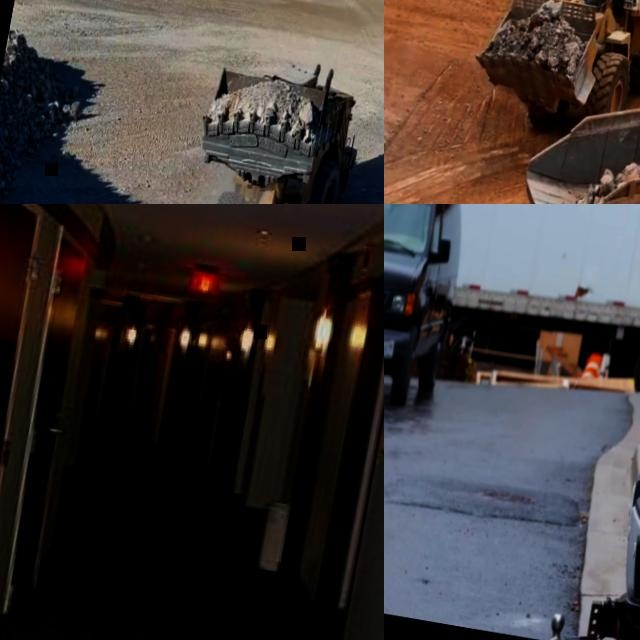Safety Cone: (581, 352, 605, 383)
machinery: (168, 45, 373, 204), (477, 19, 640, 204), (460, 0, 640, 162)
vehicle: (547, 204, 640, 640), (384, 204, 477, 416)
